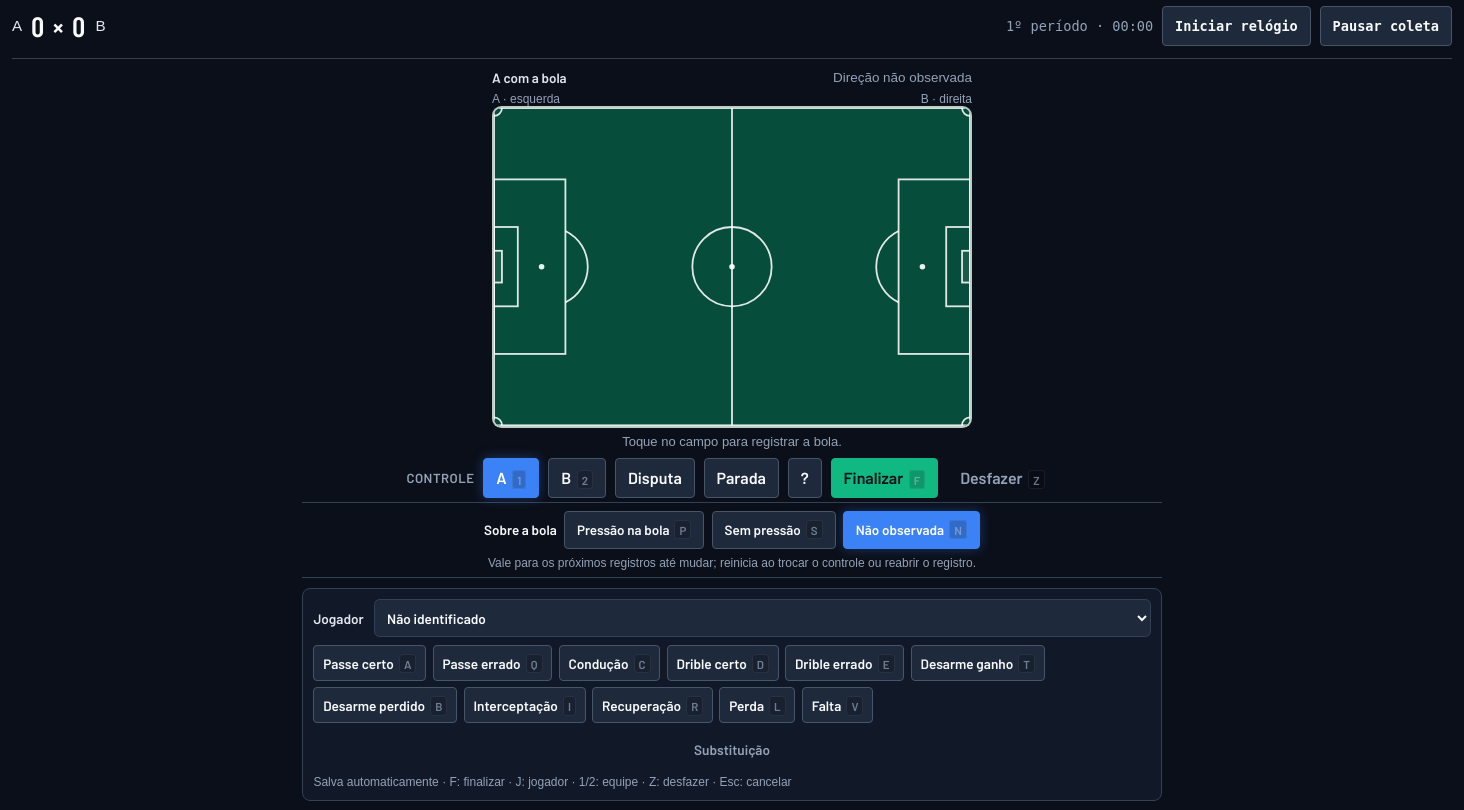
saves a loss with one shortcut and preserves a failed automatic action for retry
Press l
(page scrolled)
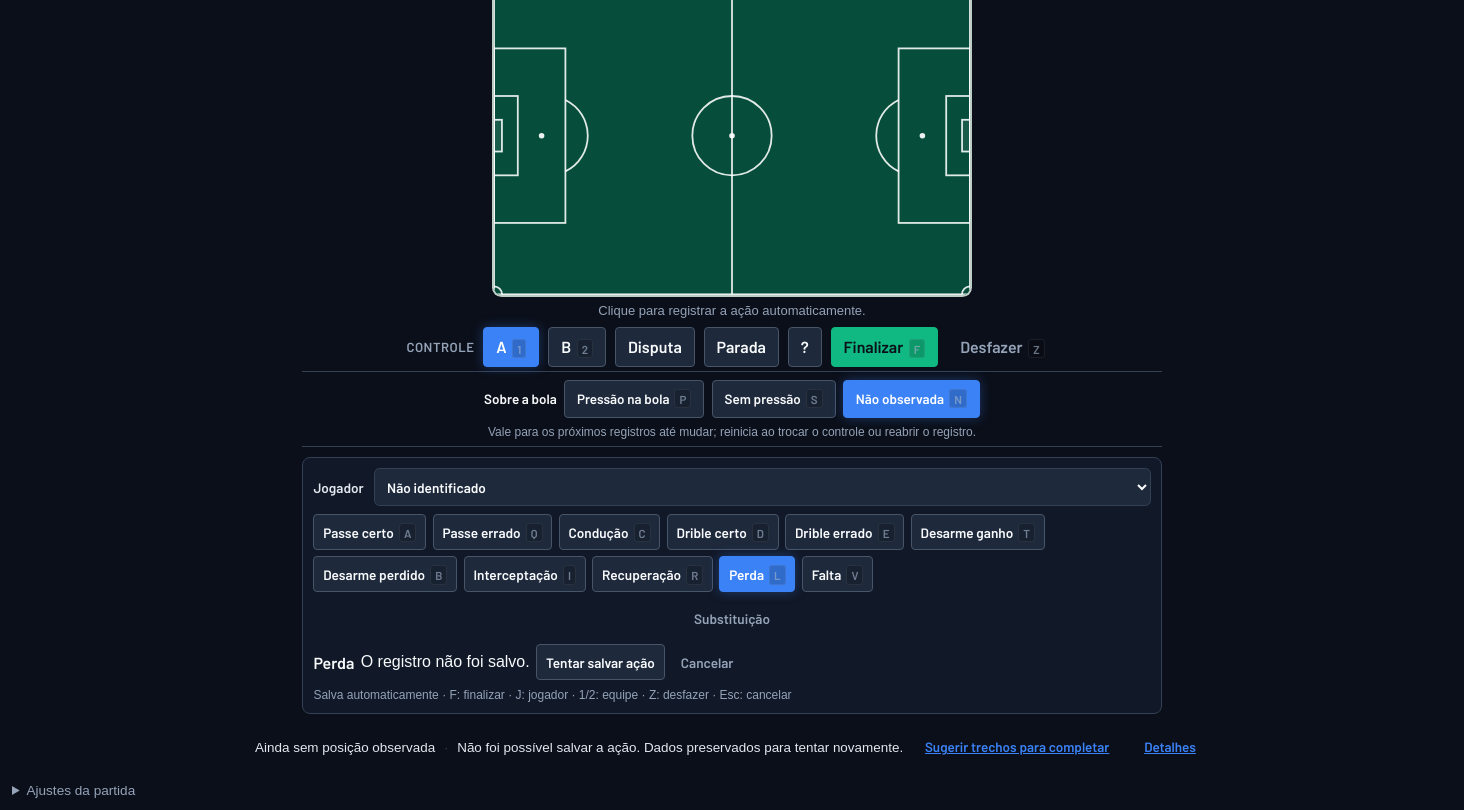
Expected: the button "Tentar salvar ação" is shown
Click the button "Tentar salvar ação".
click(600, 662)  # box x1=536 y1=644 x2=665 y2=680
(page scrolled)
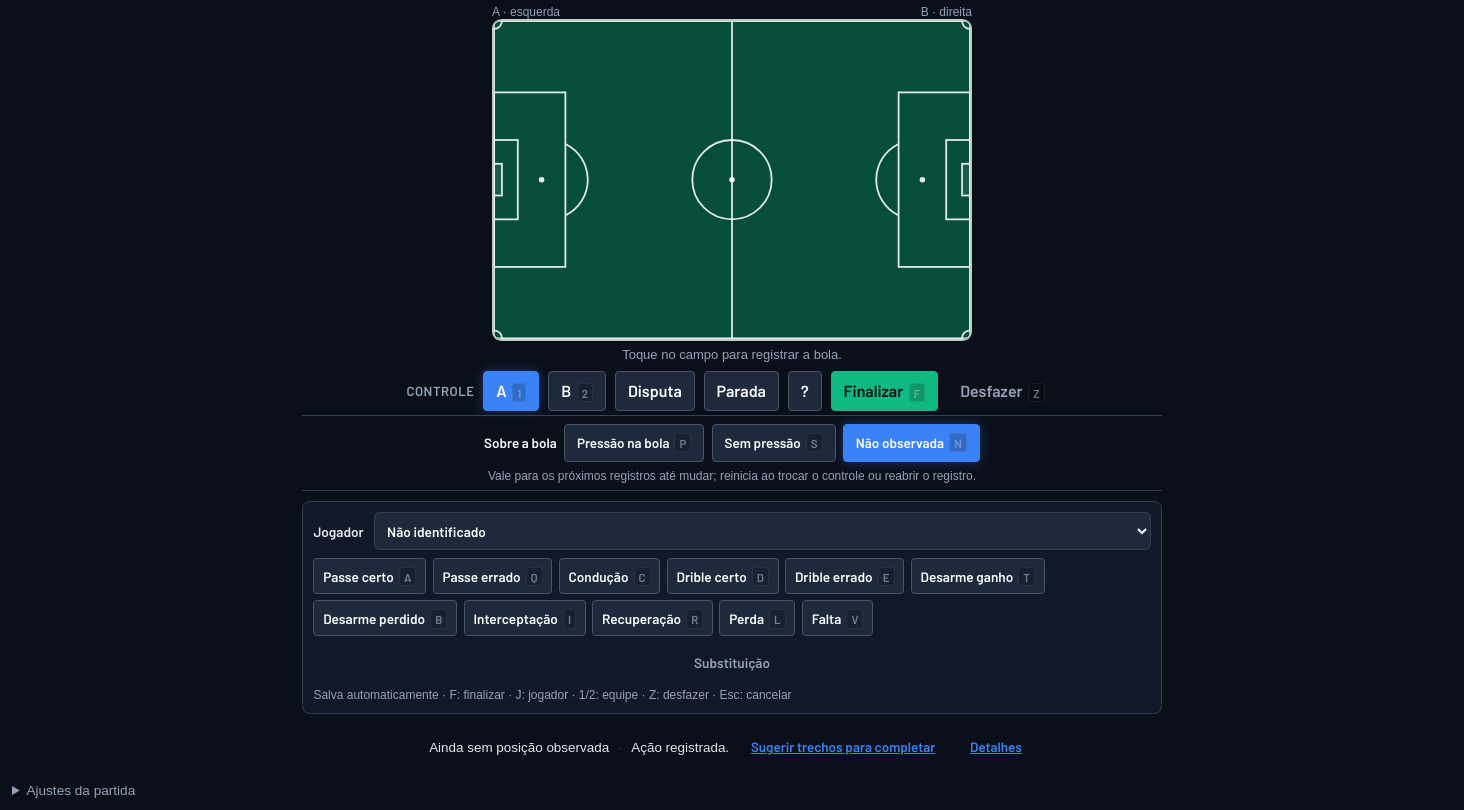
Expected: the text "Ação registrada." is shown, x1=618 y1=740 x2=729 y2=755
